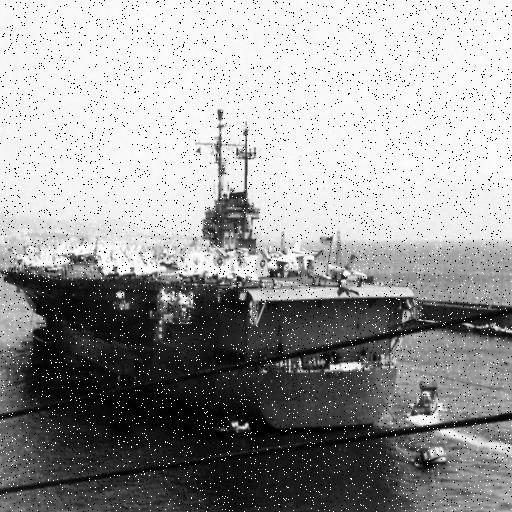Portanaves: (1, 95, 428, 438)
